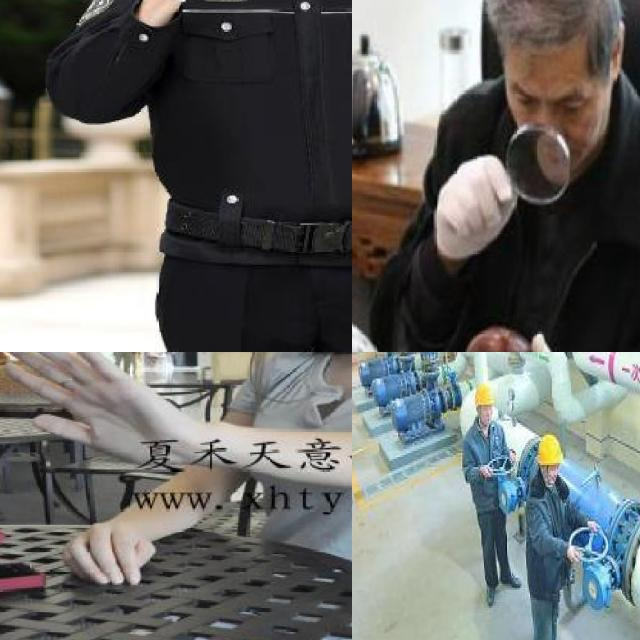face_nomask: (507, 47, 588, 174), (542, 459, 562, 484), (479, 402, 496, 427)
hand_glove: (434, 152, 514, 259)
hand_noglove: (0, 352, 193, 466), (64, 522, 156, 585), (563, 542, 588, 567), (585, 516, 601, 536), (479, 462, 495, 479), (505, 447, 517, 461)
head_helmet: (535, 433, 565, 468), (470, 380, 498, 411)
head_nohelmet: (476, 0, 613, 60)
person: (0, 352, 352, 640), (84, 0, 352, 352), (408, 0, 640, 352), (460, 379, 523, 610), (518, 430, 587, 640)
shoes: (497, 571, 522, 589), (483, 581, 499, 608)
